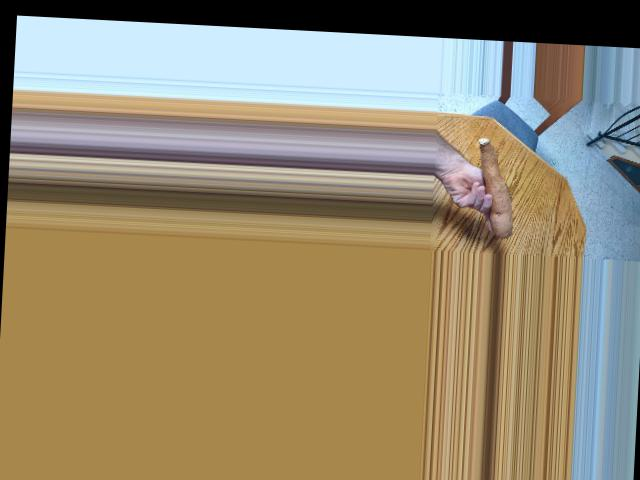sweet_potato: (470, 136, 518, 240)
